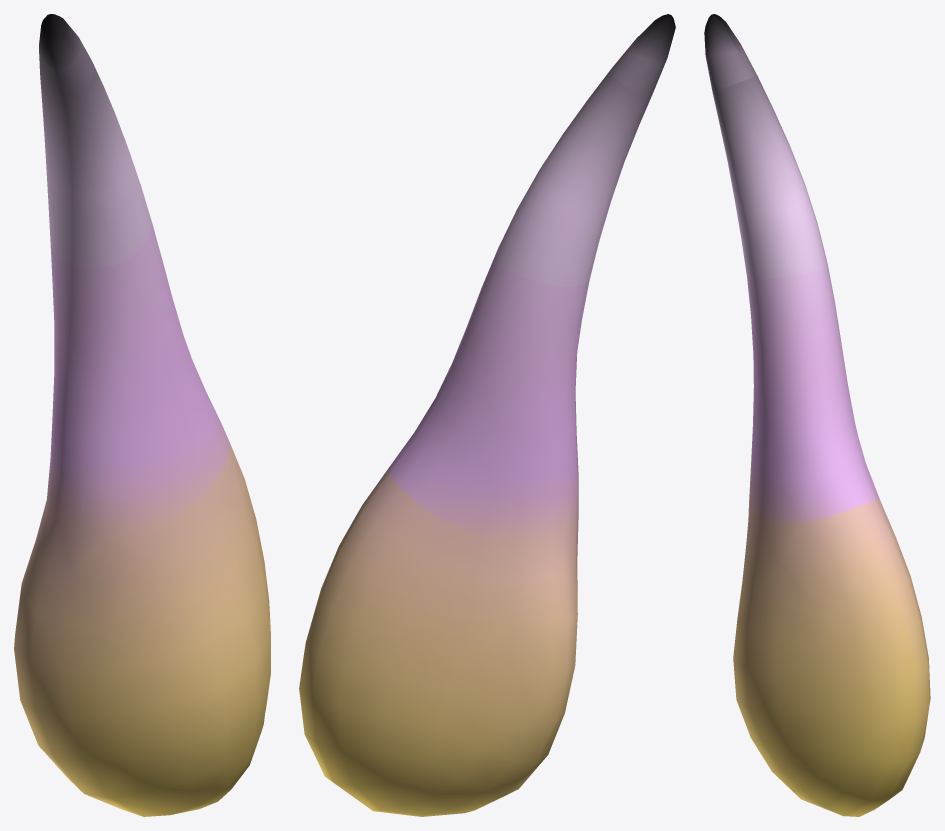
File: pestle.fbx
3 renders of one model, left to right at view 1: azimuth 30°, elevation 25°; view 2: azimuth 150°, elevation 25°; view 3: azimuth 270°, elevation 25°, orthographic. The views are drawn at different scales.
Parts seen in each view (by area): view 1: pestle; view 2: pestle; view 3: pestle.
Part boxes in pixels (box(x1,y1,x2,y2)): pestle: box(14, 14, 270, 816); pestle: box(299, 14, 675, 816); pestle: box(704, 14, 930, 816).
Bounding box in the file's own units: 98.39 × 273 × 78.54.
